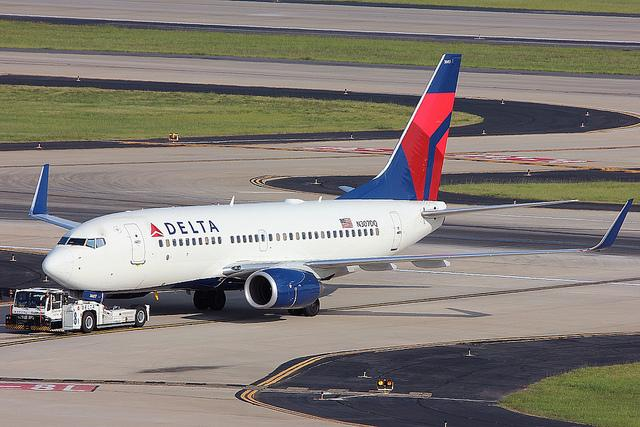airplane: (23, 53, 633, 327)
